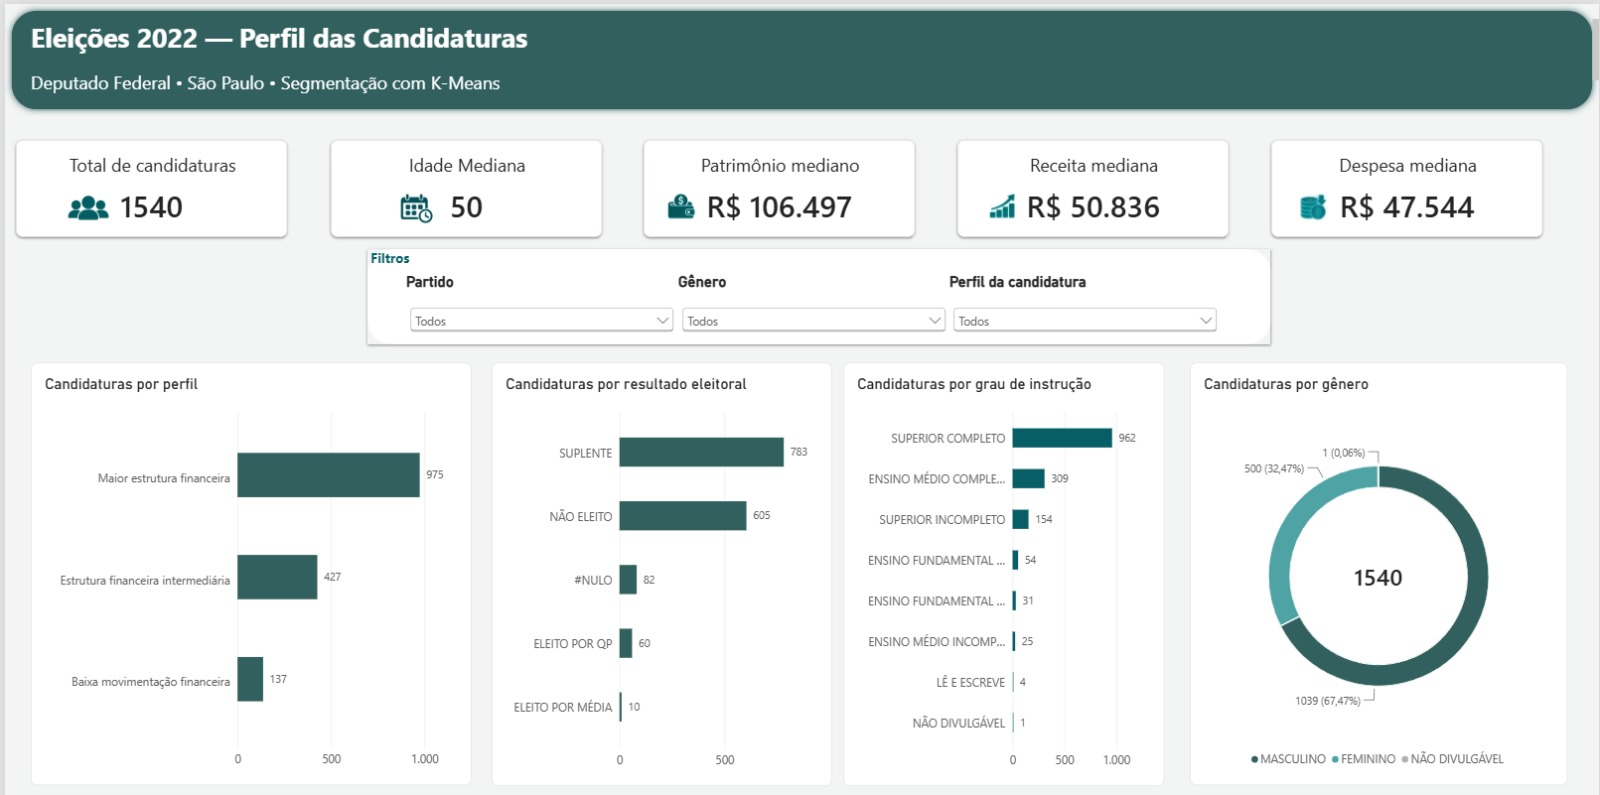

The page's visual inventory and layout, read from the dashboard file:
{"tool":"powerbi","page":{"name":"Visão Geral","canvas":[1920,1080],"ordinal":0},"visuals":[{"type":"shape","box":[0,0,1920,135.2],"z":0},{"type":"textbox","box":[30.5,18,1889.5,104.2],"z":1000},{"type":"card","title":"Total de candidaturas","fields":{"Values":["Count(base_final_clusters.SQ_CANDIDATO)"]},"box":[13.7,164.2,327.2,116.7],"z":2000},{"type":"card","title":"Idade Mediana","fields":{"Values":["Median(base_final_clusters.IDADE)"]},"box":[392.2,164.2,326.8,117.1],"z":3000},{"type":"shape","box":[436.9,295.3,1088.1,114.6],"z":4000},{"type":"card","title":"Patrimônio mediano","fields":{"Values":["Median(base_final_clusters.PATRIMONIO_TOTAL)"]},"box":[769.5,164.4,327.2,116.7],"z":5000},{"type":"card","title":"Receita mediana","fields":{"Values":["Median(base_final_clusters.RECEITA_TOTAL)"]},"box":[1147.4,164.4,327.2,116.7],"z":6000},{"type":"card","title":"Despesa mediana","fields":{"Values":["Median(base_final_clusters.DESPESA_TOTAL)"]},"box":[1525.2,164.4,327.2,116.7],"z":7000},{"type":"clusteredBarChart","title":"Candidaturas por perfil","fields":{"Category":["base_final_clusters.PERFIL_CLUSTER"],"Y":["Count(base_final_clusters.SQ_CANDIDATO)"]},"box":[30.7,431.6,531.5,510],"z":8000},{"type":"slicer","title":"Partido","fields":{"Values":["base_final_clusters.SG_PARTIDO"]},"box":[483.8,324.1,327,150],"z":9000},{"type":"slicer","title":"Gênero","fields":{"Values":["base_final_clusters.DS_GENERO"]},"box":[811,324.1,327,150],"z":10000},{"type":"slicer","title":"Perfil da candidatura","fields":{"Values":["base_final_clusters.PERFIL_CLUSTER"]},"box":[1138.2,324.1,327,150],"z":11000},{"type":"clusteredBarChart","title":"Candidaturas por resultado eleitoral","fields":{"Category":["base_final_clusters.DS_SIT_TOT_TURNO"],"Y":["CountNonNull(base_final_clusters.SQ_CANDIDATO)"]},"box":[586.8,431.6,409.9,511.1],"z":12000},{"type":"donutChart","title":"Candidaturas por gênero","fields":{"Category":["base_final_clusters.DS_GENERO"],"Y":["CountNonNull(base_final_clusters.SQ_CANDIDATO)"]},"box":[1426.9,431.6,454.7,510],"z":13000},{"type":"clusteredBarChart","title":"Candidaturas por grau de instrução","fields":{"Category":["base_final_clusters.DS_GRAU_INSTRUCAO"],"Y":["CountNonNull(base_final_clusters.SQ_CANDIDATO)"]},"box":[1009.2,431.6,386.8,511.1],"z":14000},{"type":"shape","box":[14.2,986.6,1893.4,78.1],"z":15000},{"type":"textbox","box":[436.9,295.3,116,28.3],"z":16000},{"type":"textbox","box":[30.2,1006.1,1850.8,58.6],"z":16003},{"type":"image","box":[66.9,226.5,66.9,38],"z":16004},{"type":"image","box":[440.9,226.5,109.5,39.5],"z":16005},{"type":"image","box":[769.2,226.5,89.7,35],"z":16006},{"type":"image","box":[1158.4,226.5,89.7,35],"z":16007},{"type":"image","box":[1524.8,226.5,101.9,38],"z":16008}]}

Visuals, with their boxes on the page's 1920x1080 design canvas (x1, y1, x2, y2). These are canvas units, not pixel positions in the 1600x795 screenshot, which may show the page scaled, cropped or inside an application window:
shape: (left=0, top=0, right=1920, bottom=135)
textbox: (left=30, top=18, right=1920, bottom=122)
"Total de candidaturas" card: (left=14, top=164, right=341, bottom=281)
"Idade Mediana" card: (left=392, top=164, right=719, bottom=281)
shape: (left=437, top=295, right=1525, bottom=410)
"Patrimônio mediano" card: (left=770, top=164, right=1097, bottom=281)
"Receita mediana" card: (left=1147, top=164, right=1475, bottom=281)
"Despesa mediana" card: (left=1525, top=164, right=1852, bottom=281)
"Candidaturas por perfil" clusteredBarChart: (left=31, top=432, right=562, bottom=942)
"Partido" slicer: (left=484, top=324, right=811, bottom=474)
"Gênero" slicer: (left=811, top=324, right=1138, bottom=474)
"Perfil da candidatura" slicer: (left=1138, top=324, right=1465, bottom=474)
"Candidaturas por resultado eleitoral" clusteredBarChart: (left=587, top=432, right=997, bottom=943)
"Candidaturas por gênero" donutChart: (left=1427, top=432, right=1882, bottom=942)
"Candidaturas por grau de instrução" clusteredBarChart: (left=1009, top=432, right=1396, bottom=943)
shape: (left=14, top=987, right=1908, bottom=1065)
textbox: (left=437, top=295, right=553, bottom=324)
textbox: (left=30, top=1006, right=1881, bottom=1065)
image: (left=67, top=226, right=134, bottom=264)
image: (left=441, top=226, right=550, bottom=266)
image: (left=769, top=226, right=859, bottom=262)
image: (left=1158, top=226, right=1248, bottom=262)
image: (left=1525, top=226, right=1627, bottom=264)
